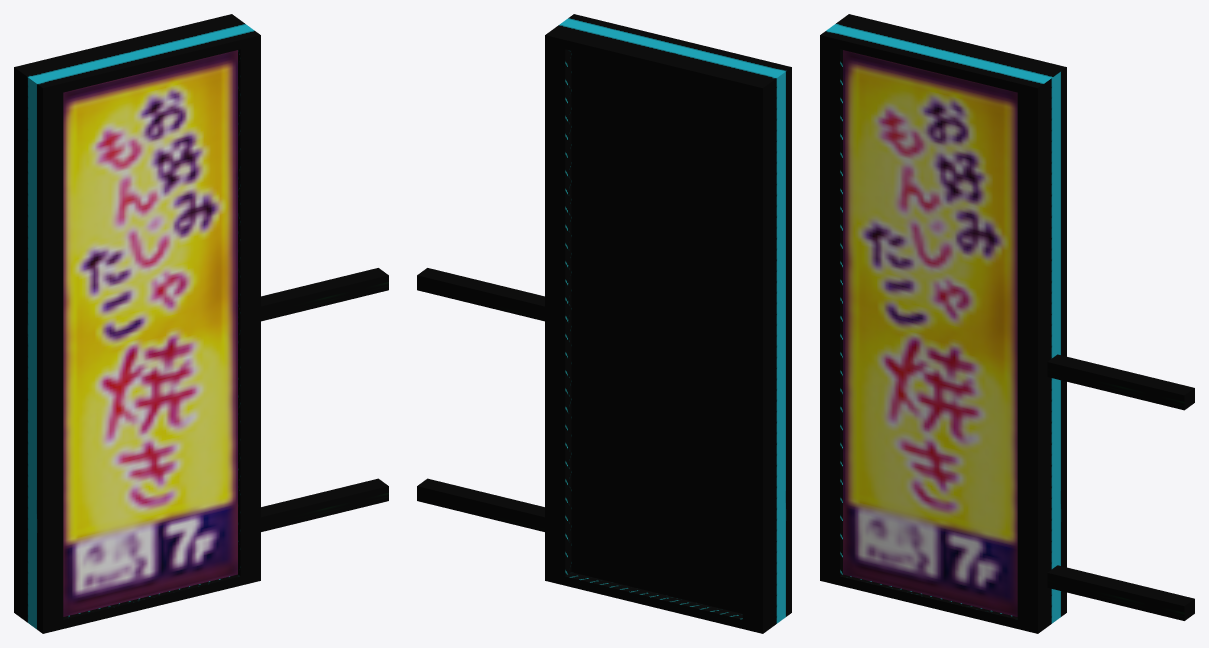
Rendered from Japanese_Sign_16_Art.fbx.
3 views of the same model, side by side, from view 1: azimuth 30°, elevation 25°; view 2: azimuth 150°, elevation 25°; view 3: azimuth 330°, elevation 25° (orthographic).
Visible parts, largest first — view 1: Japanese_Sign_16; view 2: Japanese_Sign_16; view 3: Japanese_Sign_16.
Part boxes in pixels (x1,y1,x2,y2): Japanese_Sign_16: [14, 14, 388, 633]; Japanese_Sign_16: [417, 14, 791, 633]; Japanese_Sign_16: [820, 14, 1194, 633].
Size of the model in its own units: 0.8982 by 1.32 by 0.1264.
